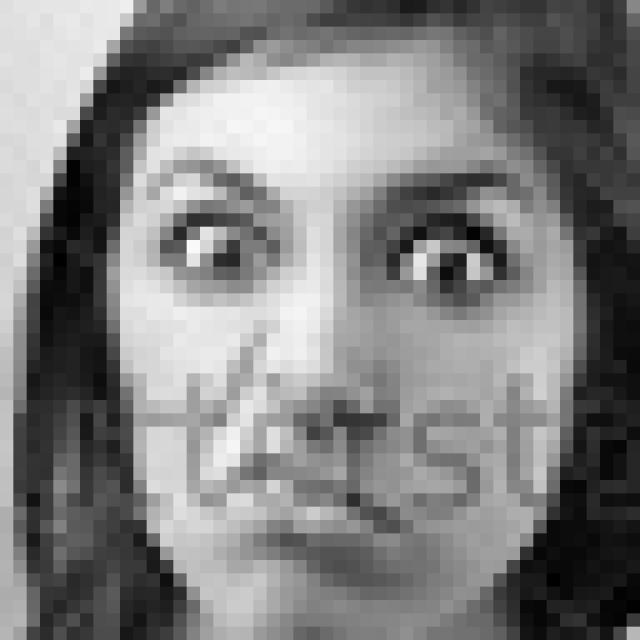disgust: (144, 153, 550, 590)
